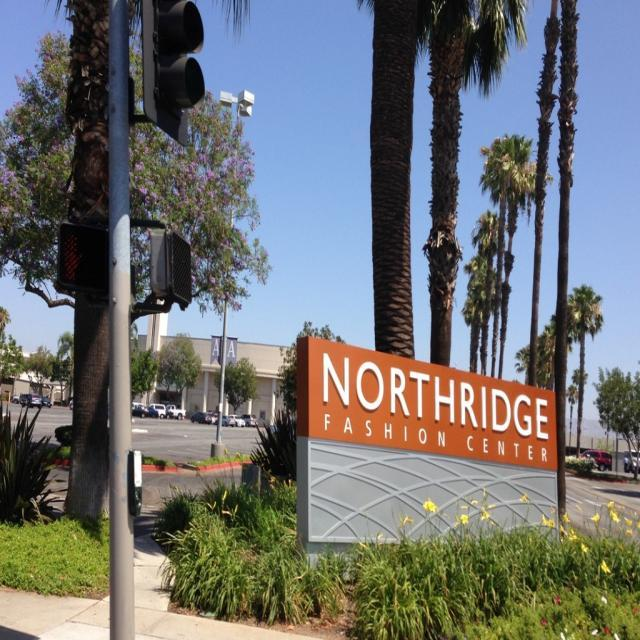traffic light: (141, 0, 207, 148)
